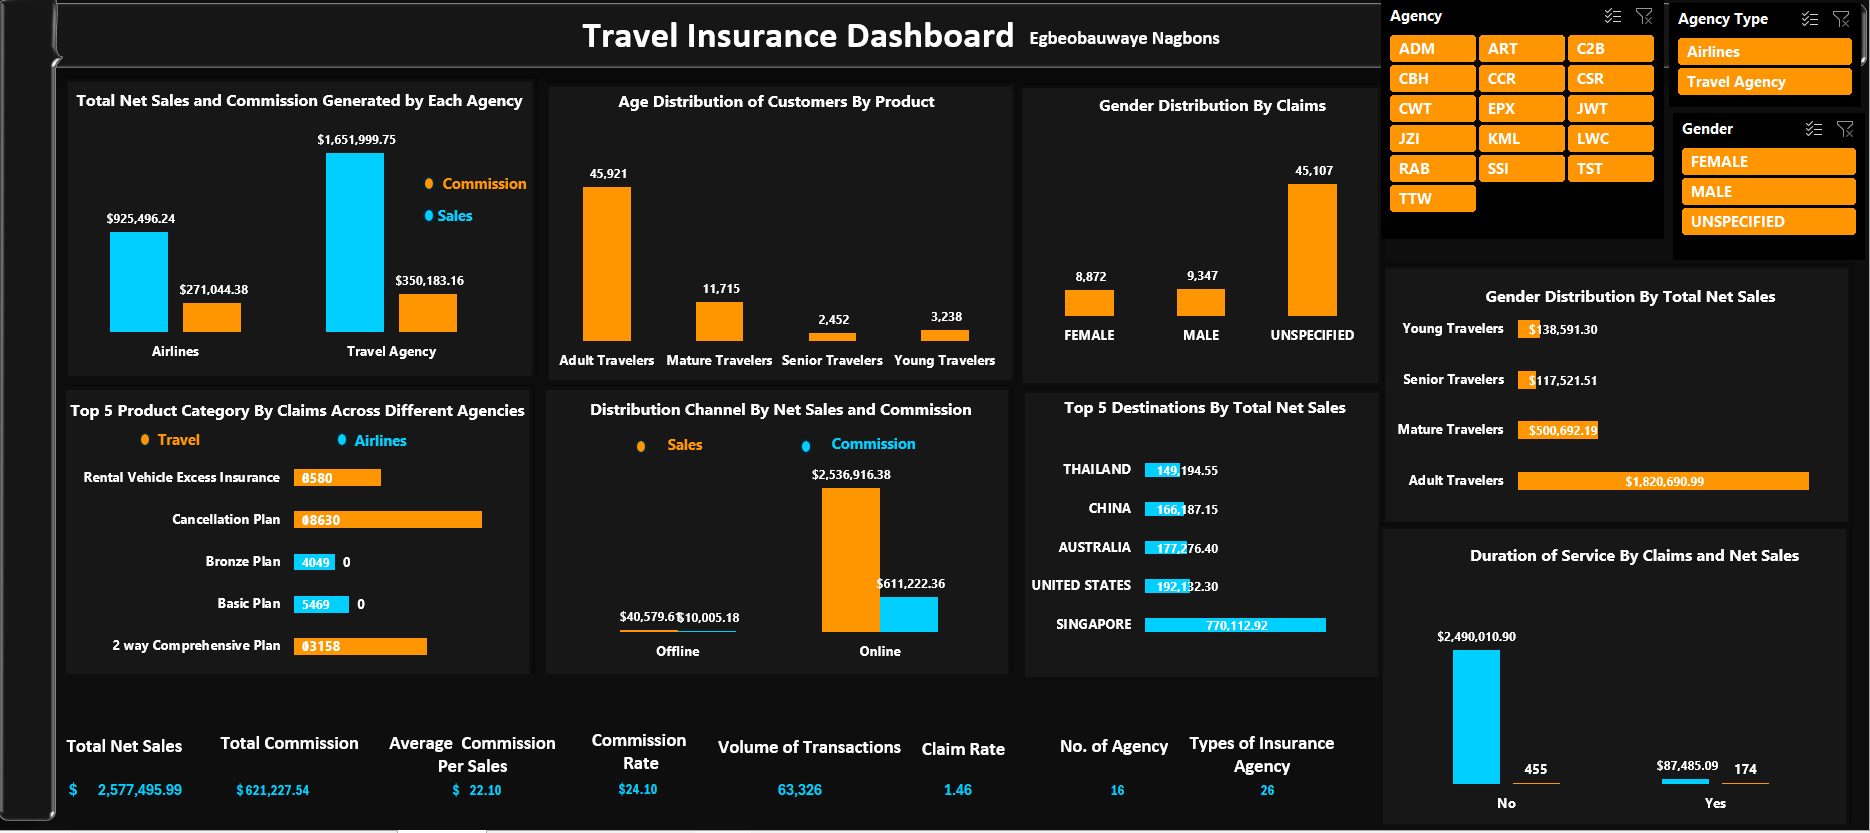

Layout of this report page (visuals, bound fields, positions):
{"tool":"powerbi","page":{"name":"Page 1","canvas":[1280,720],"ordinal":0},"visuals":[{"type":"textbox","box":[346,9.7,468.5,53.5],"z":1000},{"type":"card","fields":{"Values":["travel data.Total  Net Sales"]},"box":[6.8,602.6,142.9,110.8],"z":2000},{"type":"card","fields":{"Values":["travel data.Total Commission"]},"box":[159.4,602.6,165.2,110.8],"z":3000},{"type":"card","fields":{"Values":["travel data.Average Commision Per Sale"]},"box":[336.3,602.6,179.8,110.8],"z":4000},{"type":"card","fields":{"Values":["travel data.Commission Rate"]},"box":[527.7,602.6,165.2,110.8],"z":5000},{"type":"card","fields":{"Values":["travel data.Volume of Transaction"]},"box":[710.5,602.6,200.2,110.8],"z":6000},{"type":"card","fields":{"Values":["travel data.Claim Rate"]},"box":[924.3,602.6,112.7,110.8],"z":7000},{"type":"shape","box":[267.4,144.7,12.5,13.5],"z":10000},{"type":"shape","box":[267.4,167.5,12.5,13.5],"z":11000},{"type":"textbox","box":[282.8,158.4,63.2,35],"z":12000},{"type":"textbox","box":[282.8,134.1,112.7,36],"z":13000},{"type":"slicer","fields":{"Values":["travel data.Agency Type"]},"box":[1060.2,602.8,194.7,112],"z":18000},{"type":"slicer","fields":{"Values":["travel data.Distribution Channel"]},"box":[1084.9,71.8,195.1,124.2],"z":19000},{"type":"slicer","fields":{"Values":["Age bucket.Age Group"]},"box":[1084.9,193.2,195.1,184],"z":20000},{"type":"shape","box":[0,6.4,1280,72.7],"z":20500},{"type":"clusteredColumnChart","fields":{"Y":["travel data.Total  Net Sales","travel data.Total Commission"],"Category":["travel data.Agency Type"]},"box":[6.8,79.7,403.3,279.9],"z":21000},{"type":"pieChart","title":"Gender Distribution By Claim","fields":{"Category":["travel data.Gender"],"Y":["CountNonNull(travel data.Claim)"]},"box":[426.7,79.7,283.8,279.9],"z":21500},{"type":"clusteredBarChart","title":"Top 5 Product Catergory By Claims Across Different Agencies","fields":{"Y":["CountNonNull(travel data.Claim)","CountNonNull(travel data.Agency)"],"Category":["travel data.Product Name"]},"box":[728,79.7,356.7,279.9],"z":22000},{"type":"clusteredColumnChart","title":"Age Distribution of Customers By Product","fields":{"Category":["Age bucket.Age Group"],"Y":["CountNonNull(travel data.Product Name)"]},"box":[7.3,370.5,402.7,223.7],"z":22500},{"type":"clusteredBarChart","title":"Top 5 Destinations By Total Net Sales","fields":{"Category":["travel data.Destination"],"Y":["Sum(travel data.Net Sales)"]},"box":[426.7,370.3,347.9,223.5],"z":23000},{"type":"clusteredColumnChart","title":"Distribution Channel By Total Net Sales and Commission","fields":{"Category":["travel data.Distribution Channel"],"Y":["travel data.Total  Net Sales","Sum(travel data.Commision (in value))"]},"box":[774.5,370.5,480.4,224],"z":23500}]}

Visuals, with their boxes on the page's 1280x720 design canvas (x1, y1, x2, y2). These are canvas units, not pixel positions in the 1870x833 screenshot, which may show the page scaled, cropped or inside an application window:
textbox: <region>346, 10, 814, 63</region>
card - travel data.Total  Net Sales: <region>7, 603, 150, 713</region>
card - travel data.Total Commission: <region>159, 603, 325, 713</region>
card - travel data.Average Commision Per Sale: <region>336, 603, 516, 713</region>
card - travel data.Commission Rate: <region>528, 603, 693, 713</region>
card - travel data.Volume of Transaction: <region>710, 603, 911, 713</region>
card - travel data.Claim Rate: <region>924, 603, 1037, 713</region>
shape: <region>267, 145, 280, 158</region>
shape: <region>267, 168, 280, 181</region>
textbox: <region>283, 158, 346, 193</region>
textbox: <region>283, 134, 396, 170</region>
slicer - travel data.Agency Type: <region>1060, 603, 1255, 715</region>
slicer - travel data.Distribution Channel: <region>1085, 72, 1280, 196</region>
slicer - Age bucket.Age Group: <region>1085, 193, 1280, 377</region>
shape: <region>0, 6, 1280, 79</region>
clusteredColumnChart - travel data.Total  Net Sales x travel data.Total Commission: <region>7, 80, 410, 360</region>
"Gender Distribution By Claim" pieChart: <region>427, 80, 710, 360</region>
"Top 5 Product Catergory By Claims Across Different Agencies" clusteredBarChart: <region>728, 80, 1085, 360</region>
"Age Distribution of Customers By Product" clusteredColumnChart: <region>7, 370, 410, 594</region>
"Top 5 Destinations By Total Net Sales" clusteredBarChart: <region>427, 370, 775, 594</region>
"Distribution Channel By Total Net Sales and Commission" clusteredColumnChart: <region>774, 370, 1255, 594</region>
